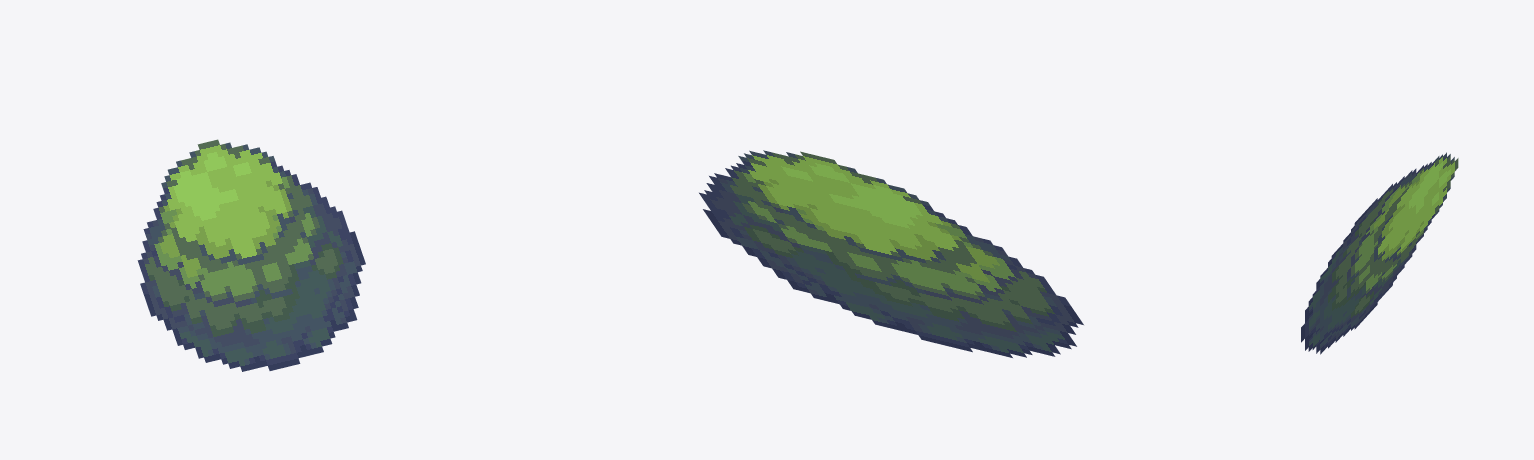
The model's file is forest-tree.glb.
3 views of the same model, side by side, from view 1: azimuth 30°, elevation 25°; view 2: azimuth 150°, elevation 25°; view 3: azimuth 270°, elevation 25° (orthographic). The views are drawn at different scales.
Parts seen in each view (by area): view 1: forest-tree; view 2: forest-tree; view 3: forest-tree.
Part boxes in pixels (x1,y1,x2,y2): forest-tree: [137, 139, 365, 371]; forest-tree: [699, 150, 1083, 357]; forest-tree: [1301, 152, 1458, 354].
Bounding box in the file's own units: 64 × 49.34 × 40.77.
1 material, 1 textured.
